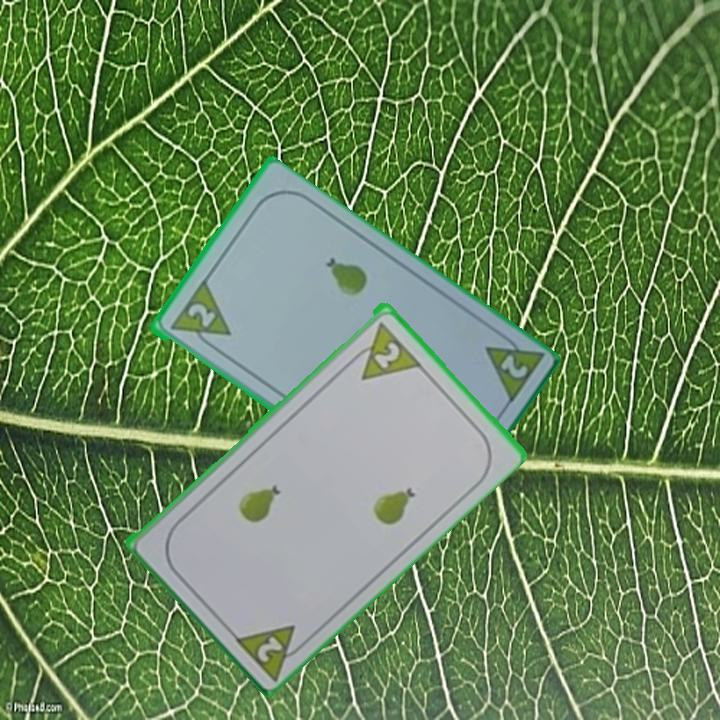2p: (344, 316, 423, 383), (165, 278, 233, 355), (229, 620, 312, 682), (496, 351, 530, 382)
